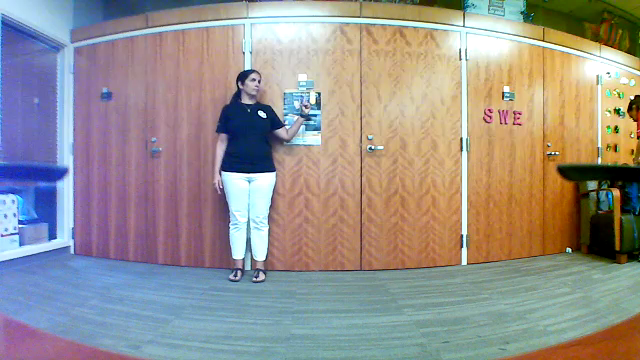up: (293, 91, 316, 120)
